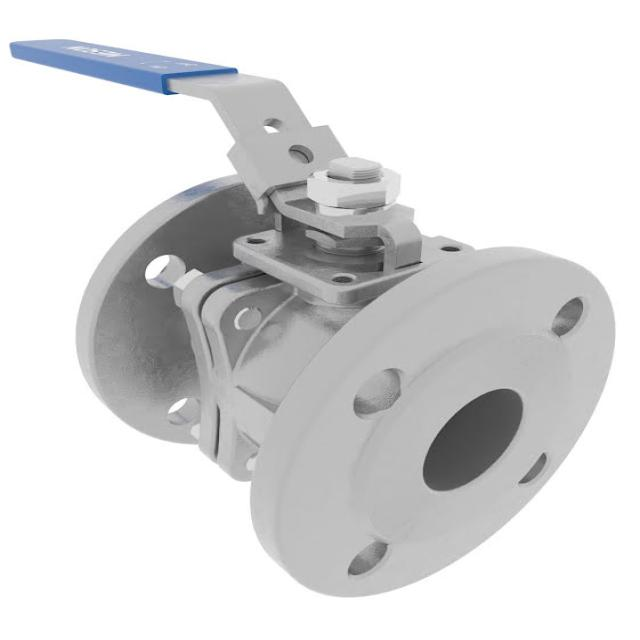Lever Handle Valve Threaded: (7, 13, 436, 267)
